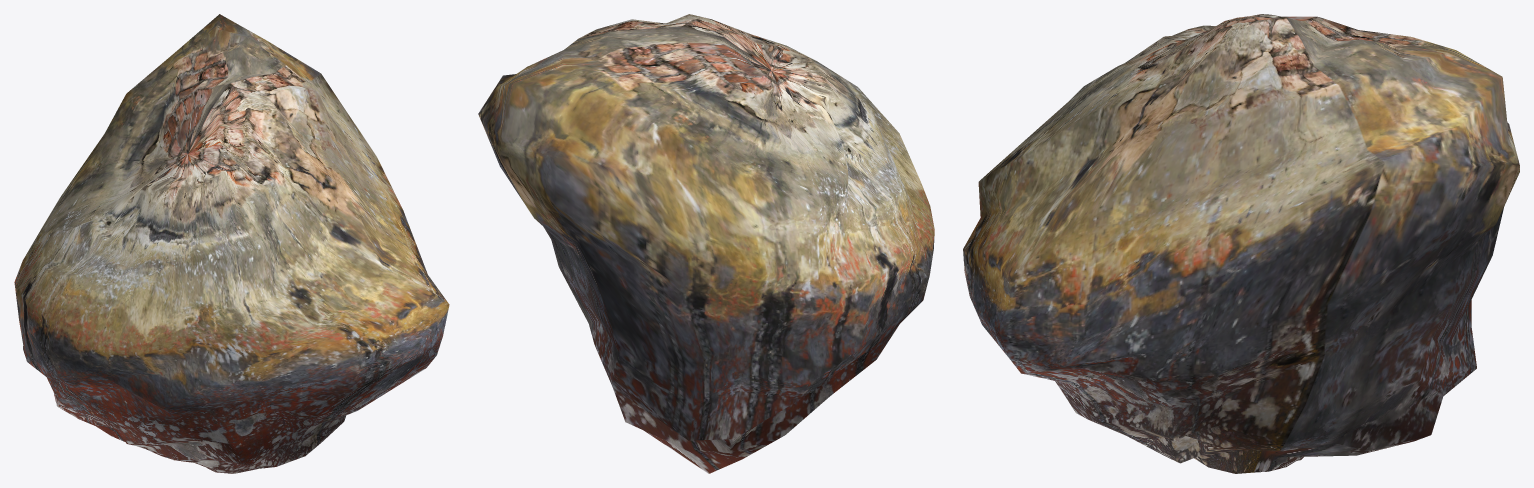
Rendered from asteroid02.obj.
3 renders of one model, left to right at view 1: azimuth 30°, elevation 25°; view 2: azimuth 150°, elevation 25°; view 3: azimuth 270°, elevation 25°, orthographic. The views are drawn at different scales.
Visible parts, largest first — view 1: pSphere1; view 2: pSphere1; view 3: pSphere1.
Part boxes in pixels (x1,y1,x2,y2): pSphere1: (14,14,449,473); pSphere1: (478,14,934,473); pSphere1: (963,14,1519,473).
Size of the model in its own units: 31.27 by 31.74 by 33.8.
